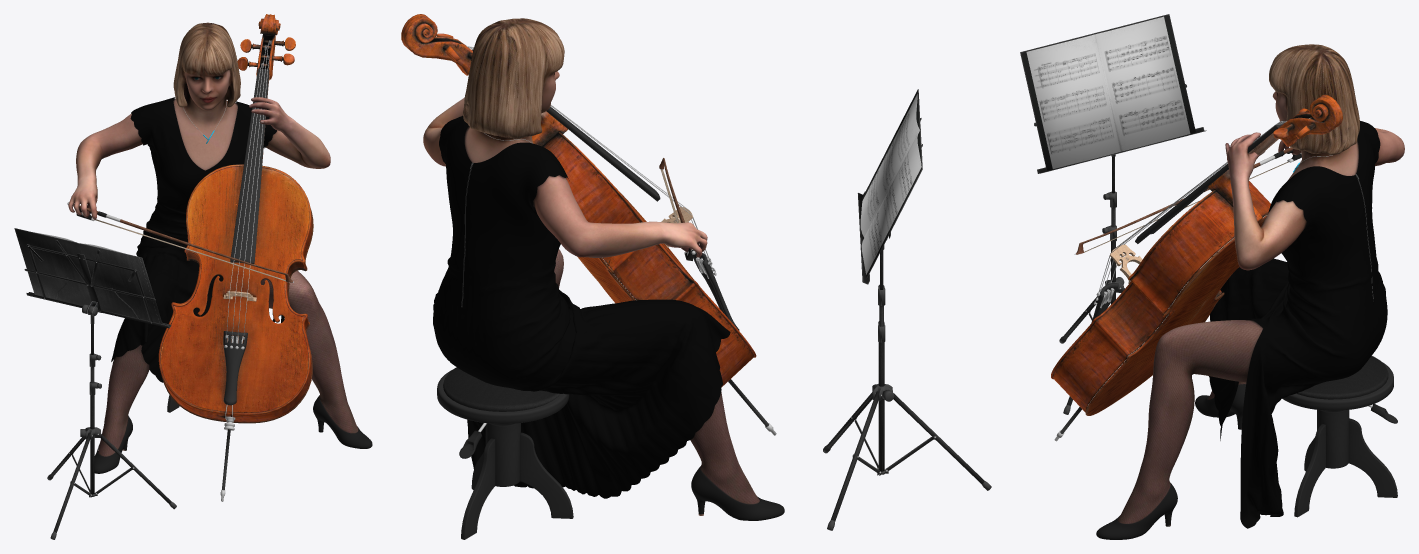
File: cellist.glb
The picture shows the model from 3 angles, left to right: view 1: azimuth 30°, elevation 25°; view 2: azimuth 150°, elevation 25°; view 3: azimuth 270°, elevation 25°; orthographic projection. The views are drawn at different scales.
Parts seen in each view (by area): view 1: violoncello, 3DScan_Woman_005, notestand, bow; view 2: 3DScan_Woman_005, violoncello, Chair_Rounded, notestand; view 3: 3DScan_Woman_005, violoncello, notestand, Chair_Rounded, bow.
Boxes of the visible parts, x1,y1,x2,y2 form: violoncello: (158,14,313,501); 3DScan_Woman_005: (68,22,372,473); notestand: (14,228,176,539); bow: (67,202,293,282); 3DScan_Woman_005: (423,18,784,520); violoncello: (401,14,776,435); Chair_Rounded: (437,367,573,539); notestand: (823,89,991,530); 3DScan_Woman_005: (1096,44,1404,539); violoncello: (1051,94,1342,441); notestand: (1020,14,1206,414); Chair_Rounded: (1282,356,1397,517); bow: (1074,147,1301,254).
Size of the model in its own units: 1.22 by 1.22 by 0.949.
Materials: 16 (10 with a texture image).
